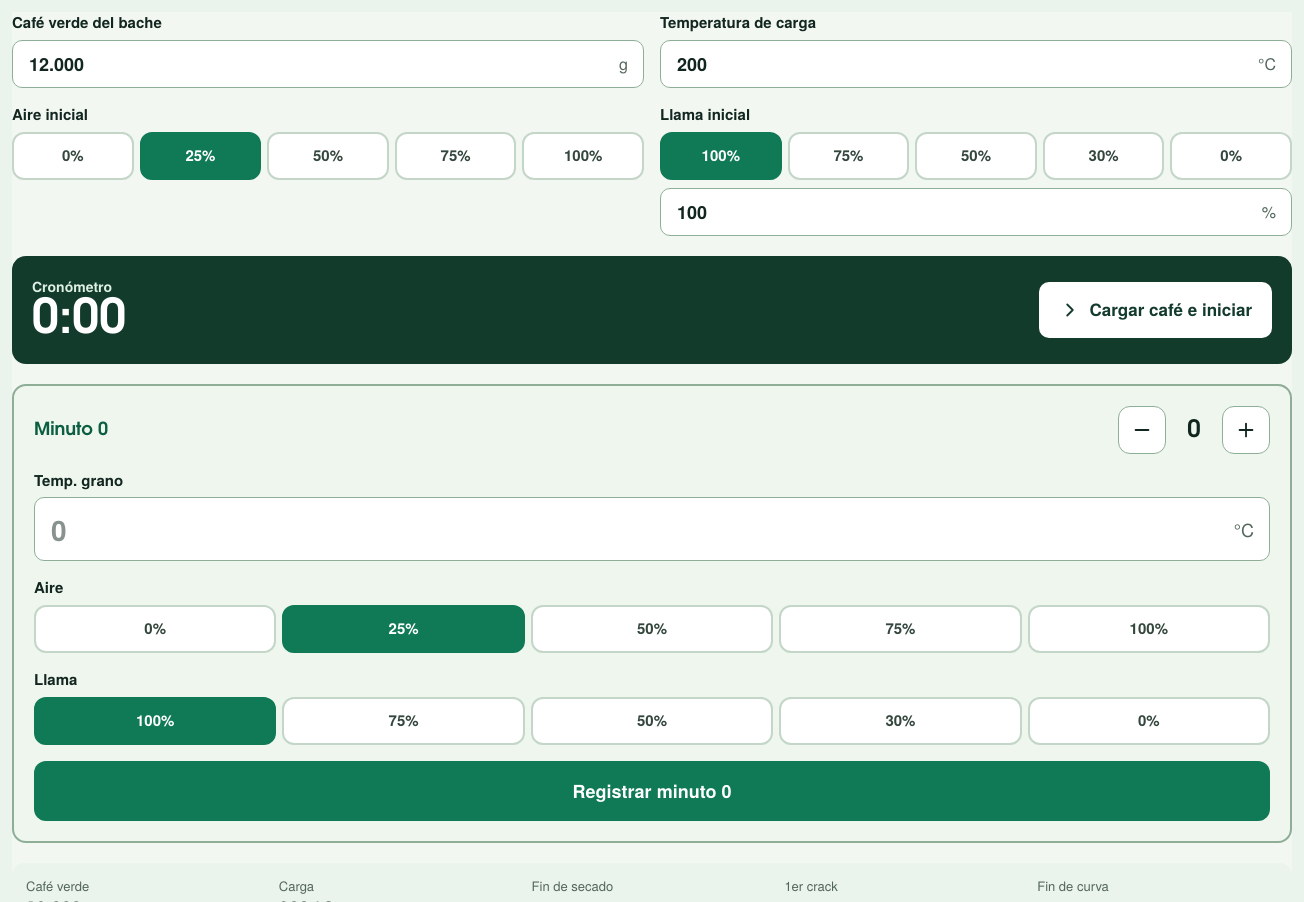
it: Curva manual › pide la temperatura del grano
The width and height of the screenshot is (1304, 902).
Click the button "Registrar minuto 0" at (652, 791), box [34,761,1270,821]
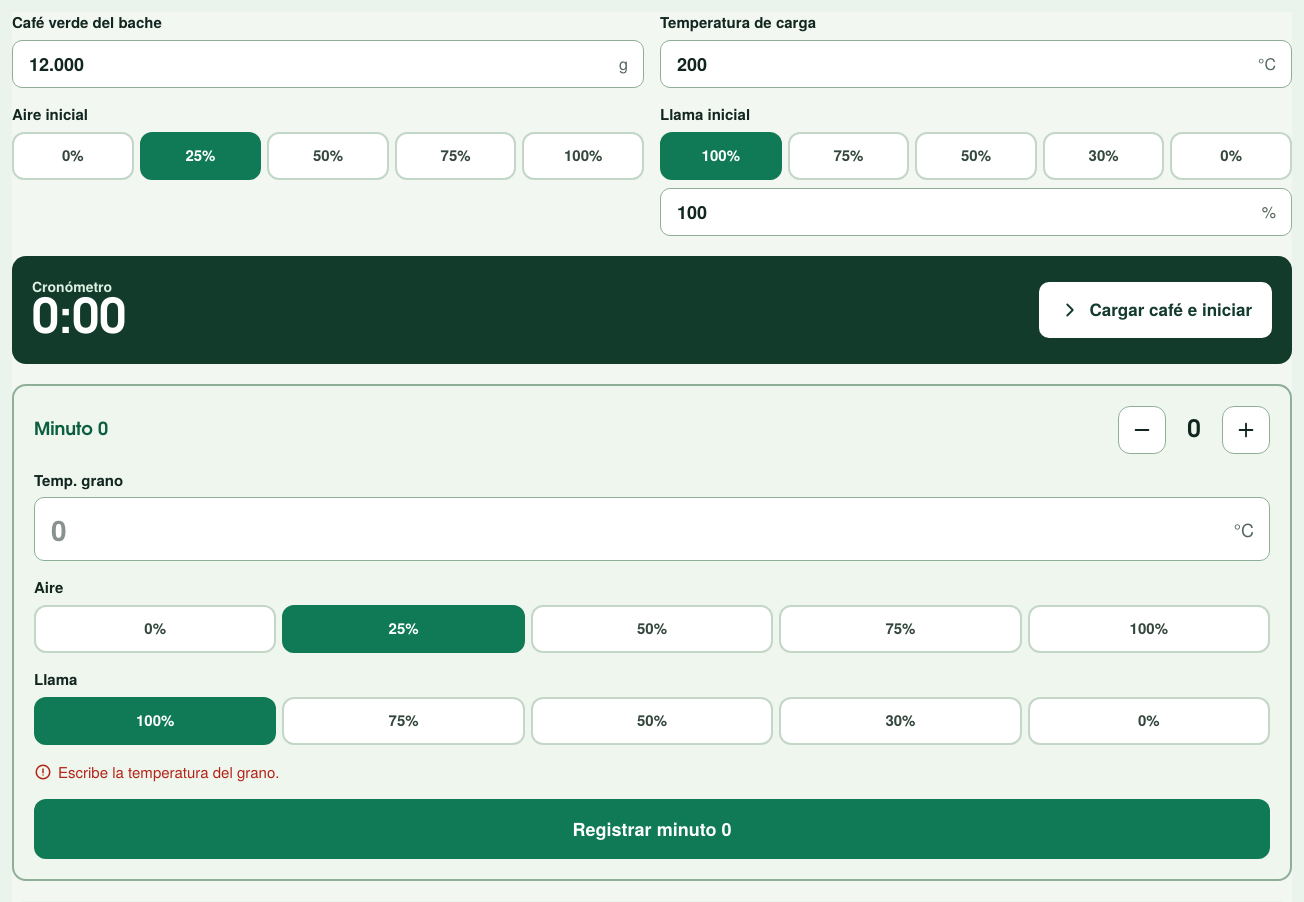
Check: the text "Escribe la temperatura del grano." is shown, box [34,761,279,782]
